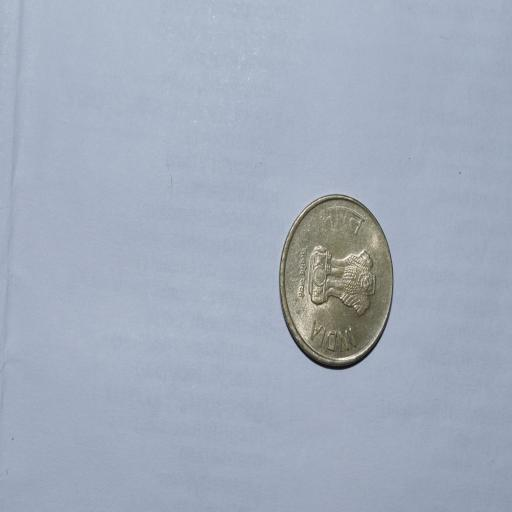rupee5: (276, 189, 394, 368)
